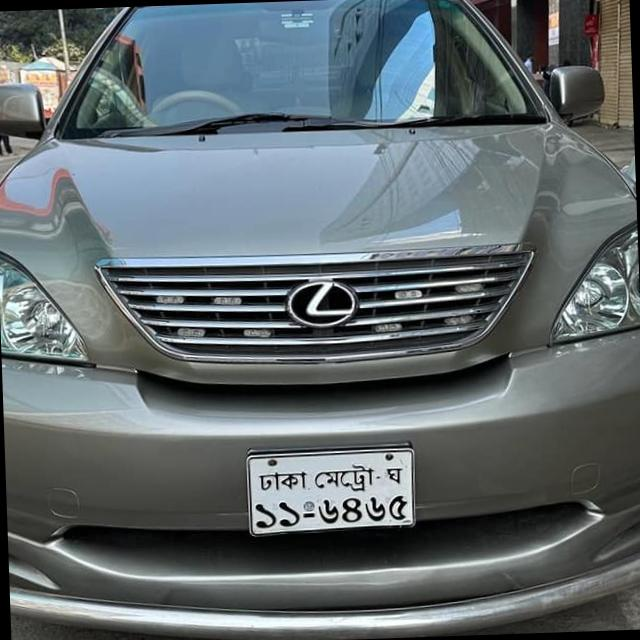Number-Plate: (249, 451, 416, 530)
